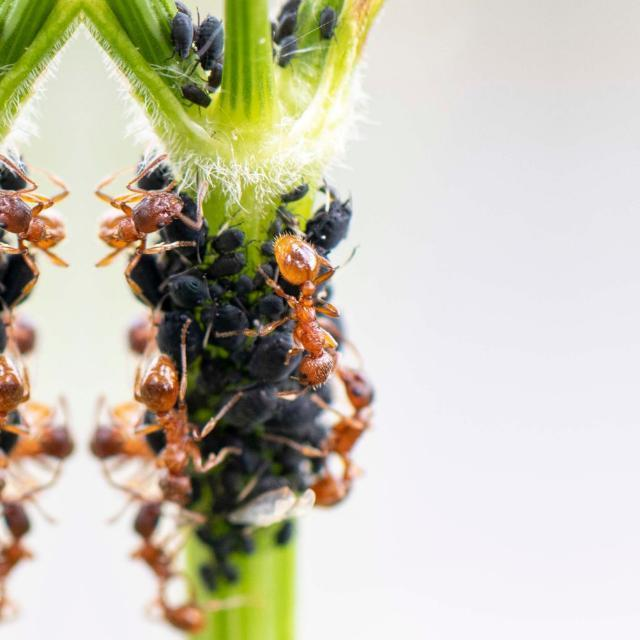Myrmica: (240, 216, 366, 410), (294, 349, 424, 516), (115, 344, 239, 492), (81, 136, 187, 288), (113, 513, 213, 639), (0, 134, 80, 287), (0, 343, 46, 490), (0, 513, 48, 639)
